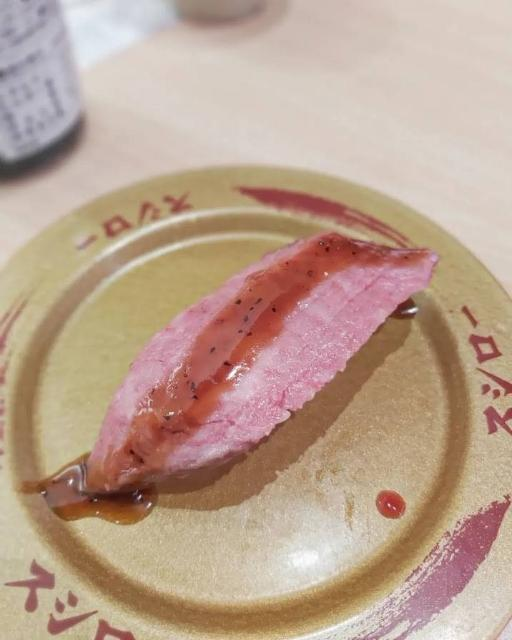jangold: (13, 189, 512, 631)
